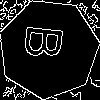B: (23, 23, 73, 62)
